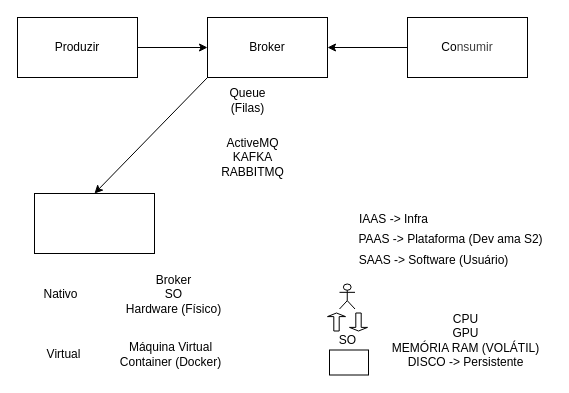
This 569x393 diagram has some shape labels left out. Here are the shapes that lost their labels. From the top down, the centre of each, then its label:
point (94, 223): Servidor
point (348, 362): HW
